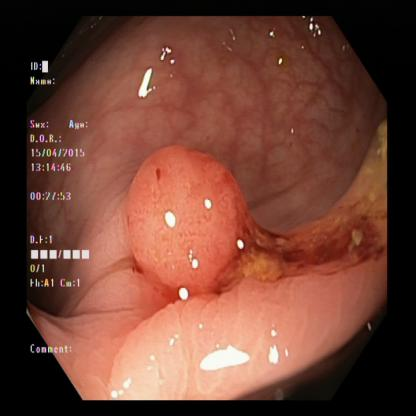Labels: (22, 53, 98, 360)
Polyps: (126, 143, 241, 295)
